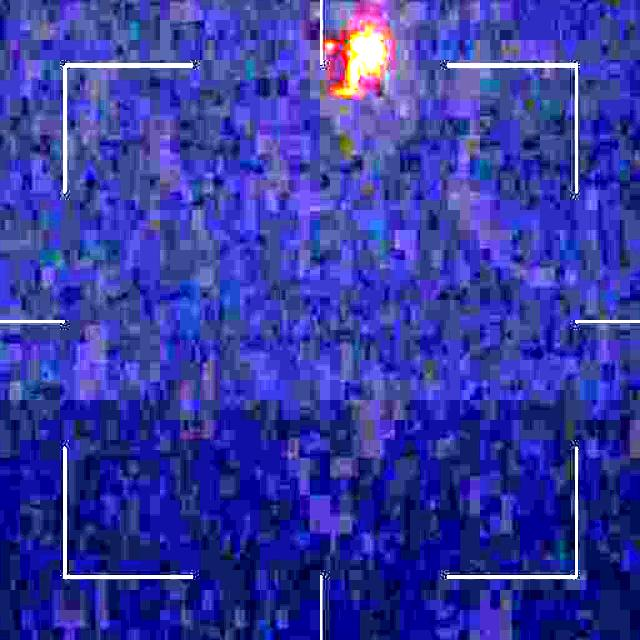bird: (299, 18, 385, 94)
